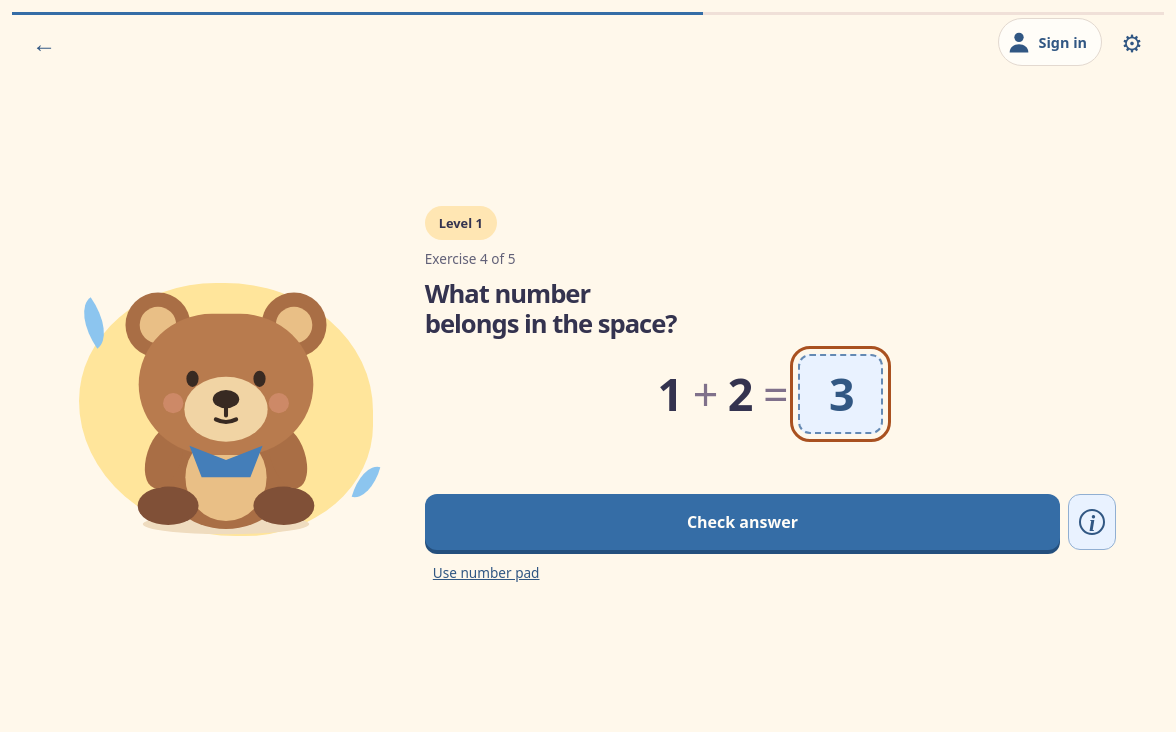
Test: signed out: no points calls, the summary only invites to sign in
Earlier steps of the test are not shown.
Click the button "Check answer" at (742, 522), box [425, 494, 1060, 550]
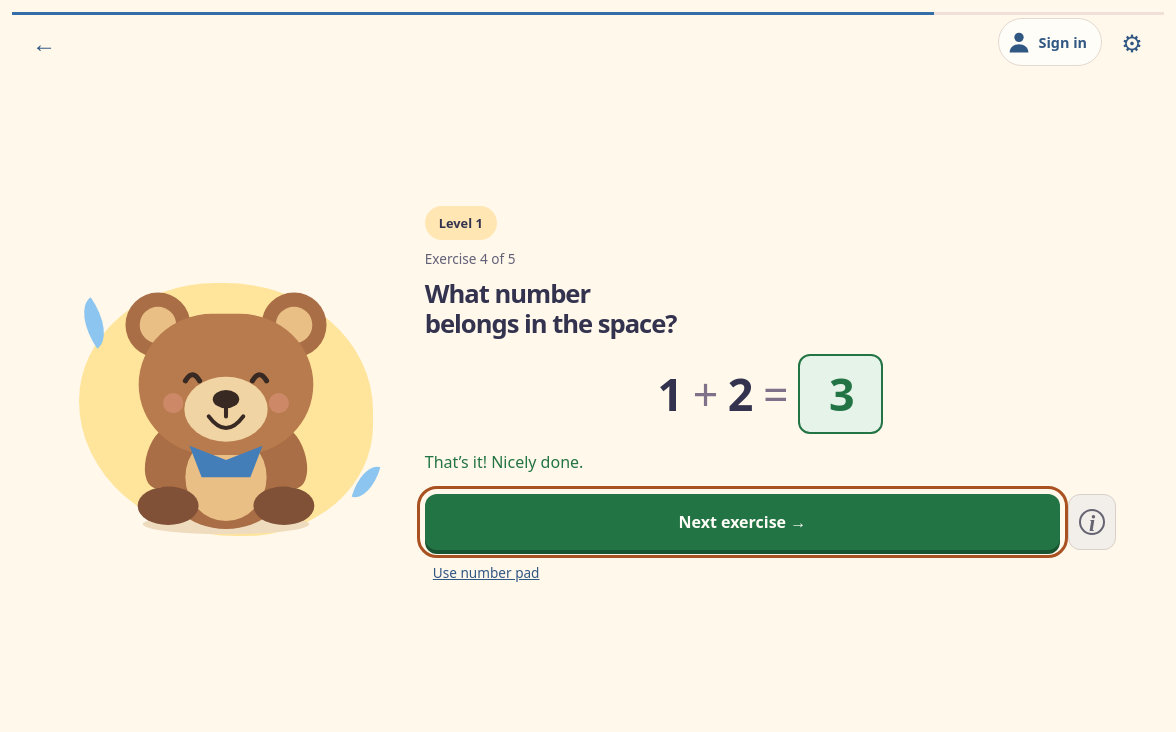
Click the button "Next exercise →" at (742, 522), box [425, 494, 1060, 550]
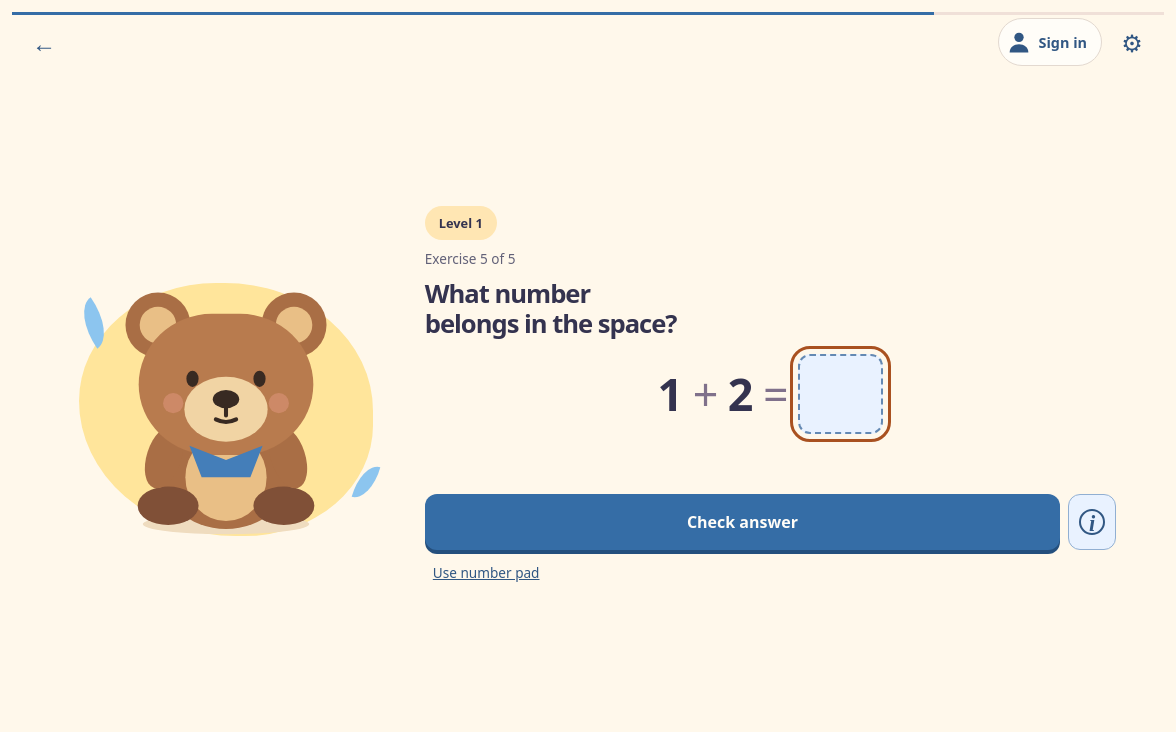
Type "3" into the field at (841, 394), box [798, 354, 883, 434]
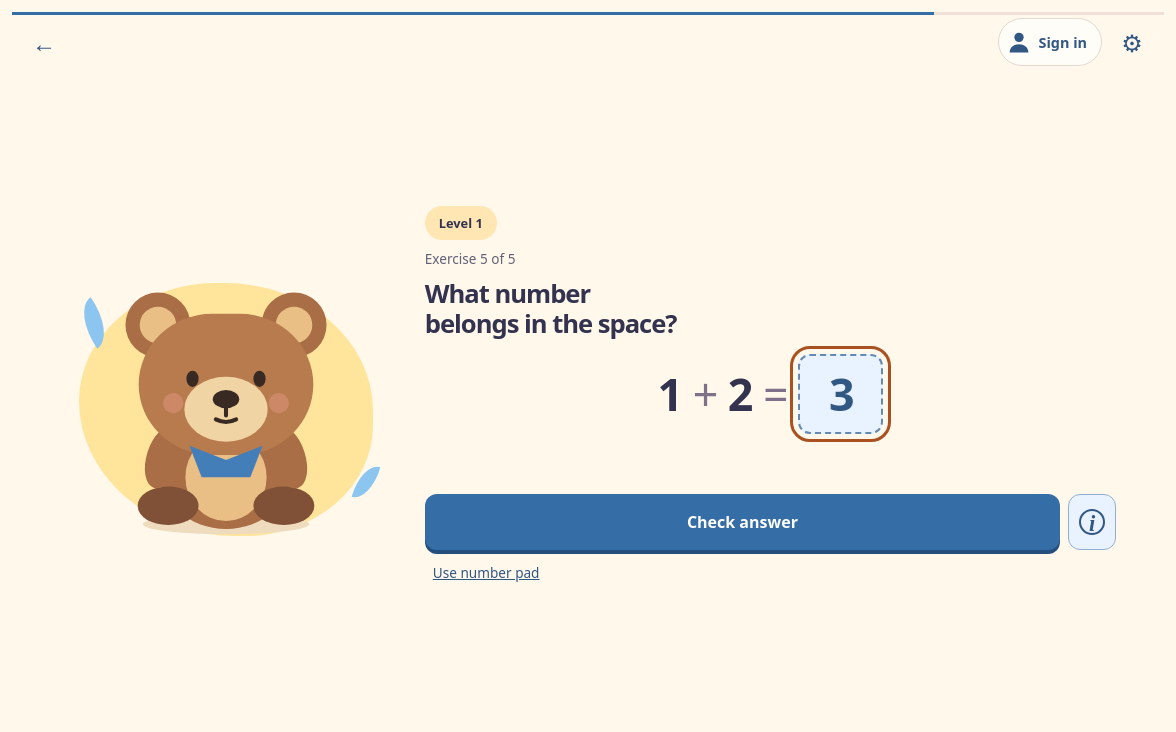
Click the button "Check answer" at (742, 522), box [425, 494, 1060, 550]
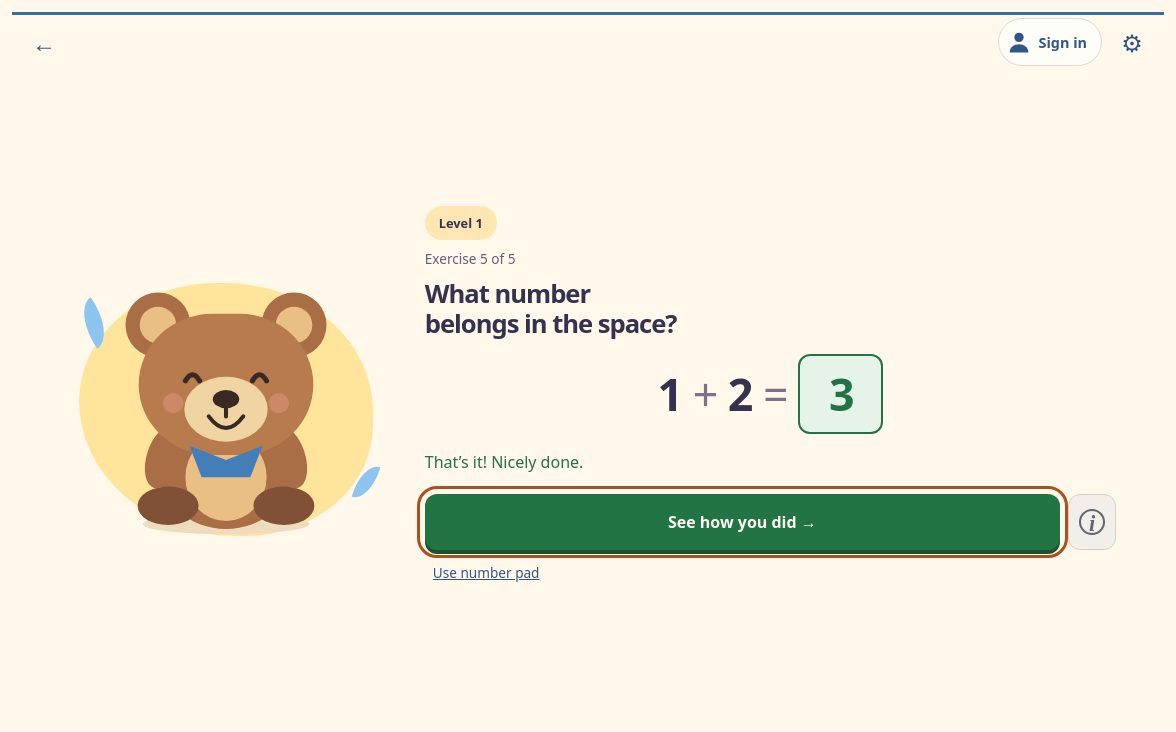
Click the button "See how you did →" at (742, 522), box [425, 494, 1060, 550]
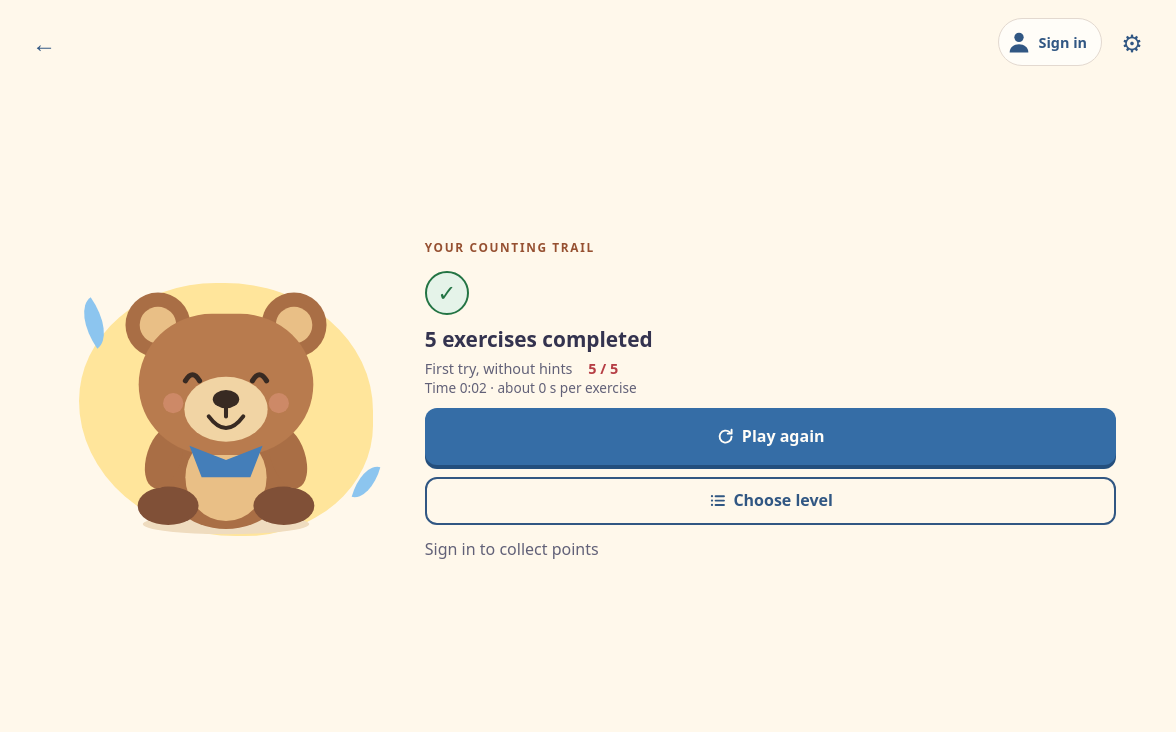
Result: the text "Sign in to collect points" is shown at [425, 538, 599, 560]
